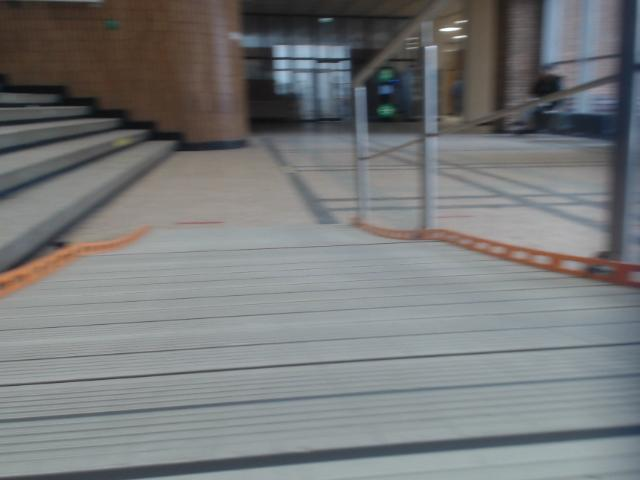rampDown: (0, 226, 639, 479)
ramps-railing: (356, 0, 639, 262), (353, 0, 449, 229), (418, 148, 436, 229)
